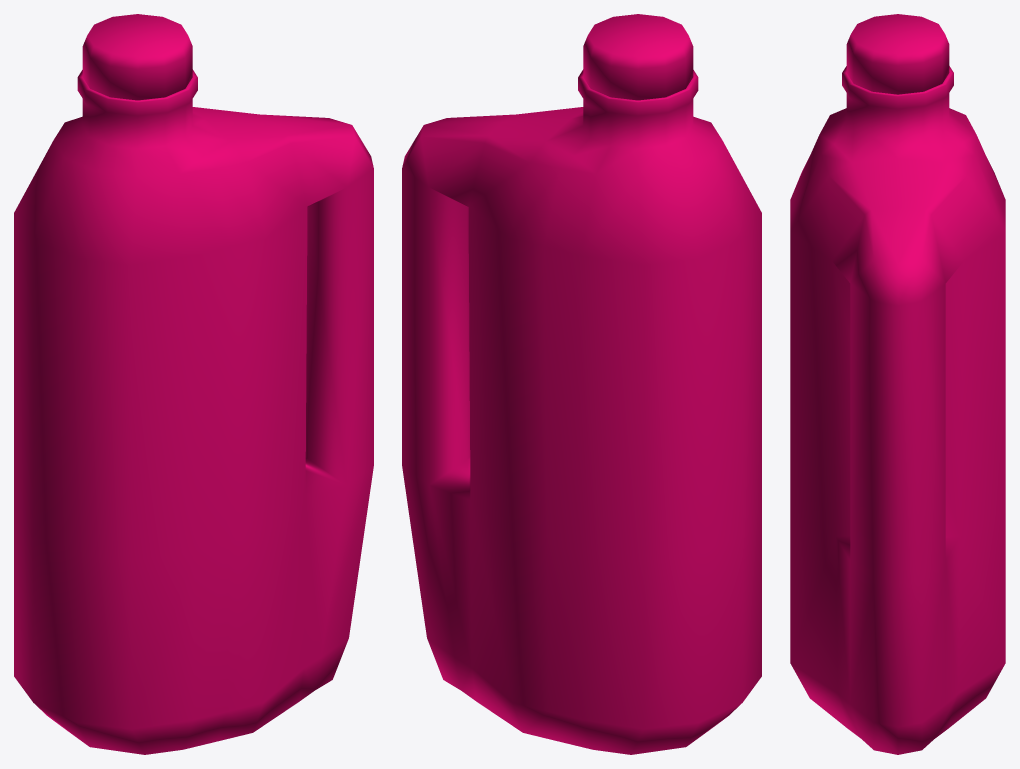
The model's file is Motor_Oil_02_Lod0.fbx.
3 views of the same model, side by side, from view 1: azimuth 30°, elevation 25°; view 2: azimuth 150°, elevation 25°; view 3: azimuth 270°, elevation 25° (orthographic). The views are drawn at different scales.
Visible parts, largest first — view 1: Motor_Oil_02_Lod0; view 2: Motor_Oil_02_Lod0; view 3: Motor_Oil_02_Lod0.
Boxes of the visible parts, left/top/right/bottom form: Motor_Oil_02_Lod0: left=14, top=14, right=373, bottom=754; Motor_Oil_02_Lod0: left=402, top=14, right=761, bottom=754; Motor_Oil_02_Lod0: left=790, top=14, right=1005, bottom=754.
Bounding box in the file's own units: 15.26 × 29.32 × 9.03.
